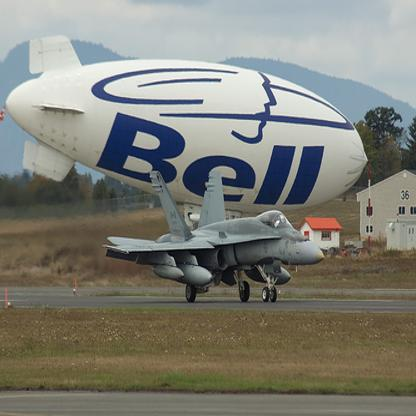Airship: (4, 34, 374, 205)
